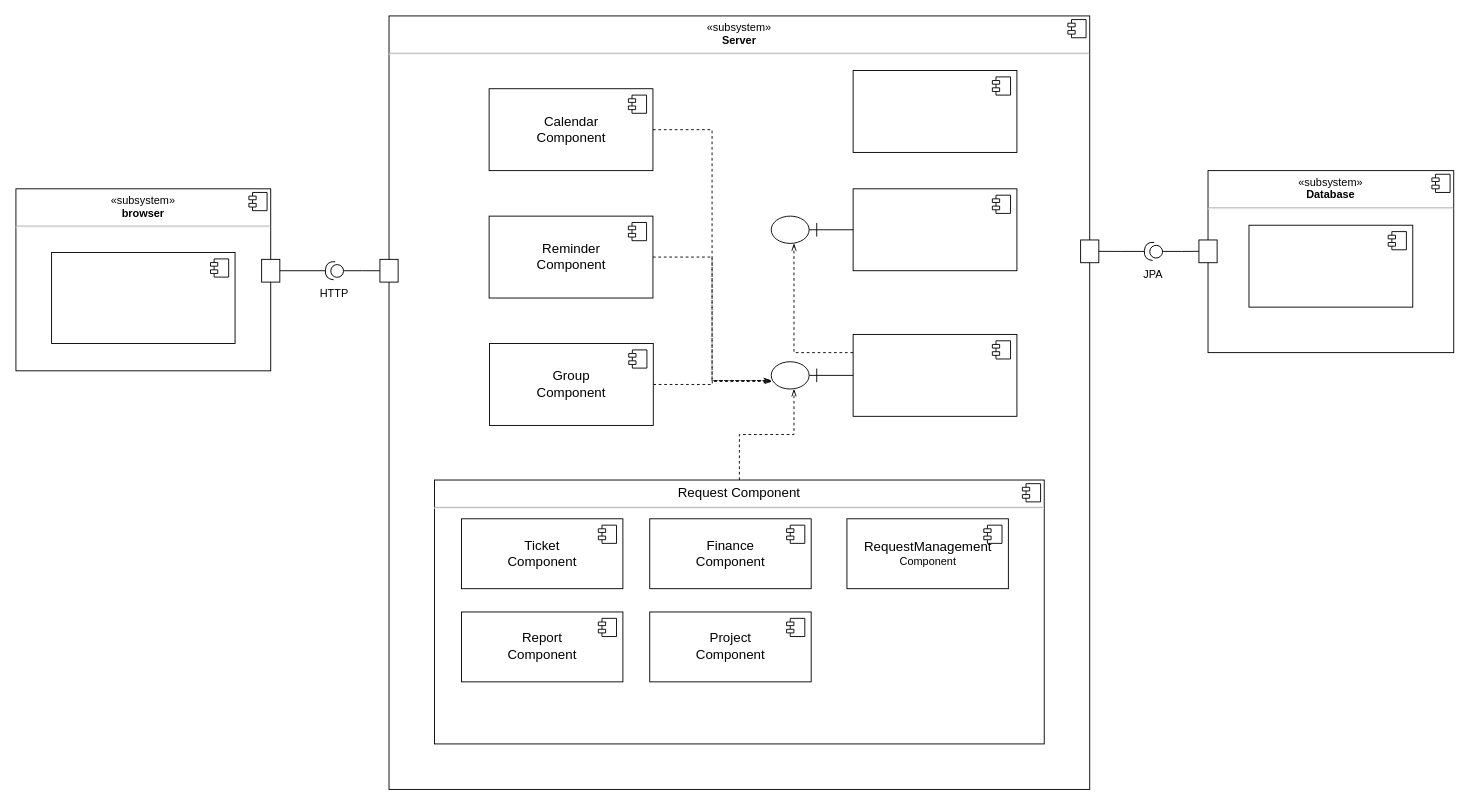
This 1470x805 diagram has some shape labels left out. Each missing label, with the centre of its shape:
"Database Component" belongs at (x=1330, y=265).
"Security Component" belongs at (x=934, y=229).
"Shared Component" belongs at (x=934, y=111).
"UserManagement Component" belongs at (x=934, y=375).
"Web client Component" belongs at (x=143, y=298).
